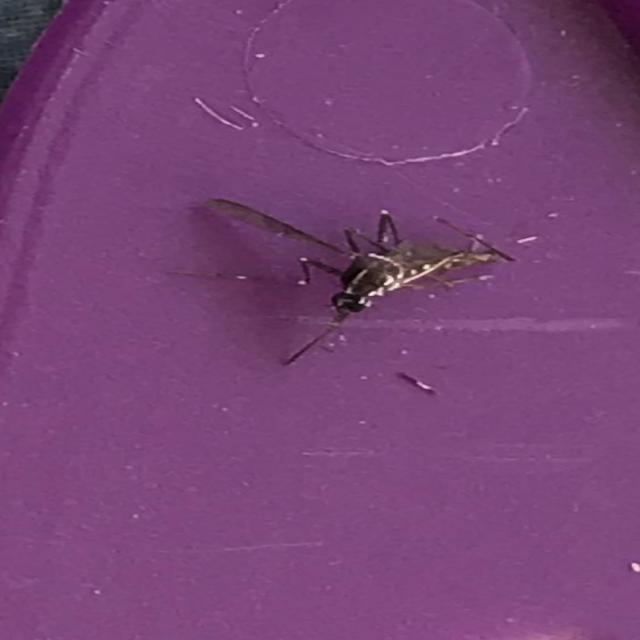albopictus: (234, 197, 522, 369)
